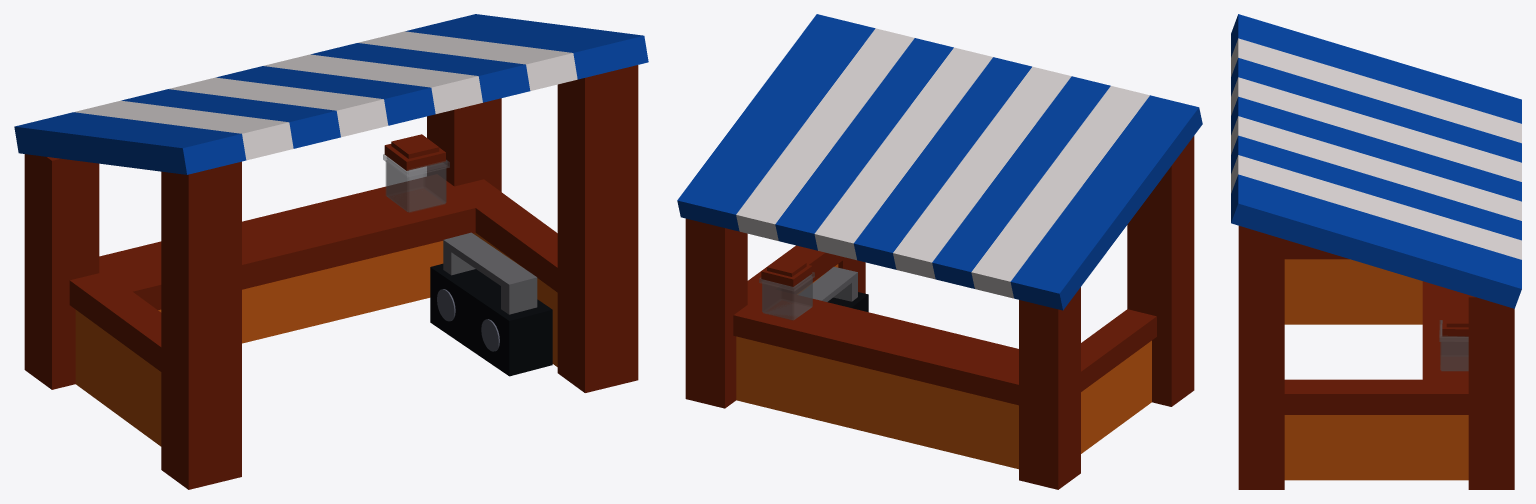
The model's file is SpeedUpgradeShop.obj.
3 views of the same model, side by side, from view 1: azimuth 30°, elevation 25°; view 2: azimuth 150°, elevation 25°; view 3: azimuth 270°, elevation 25° (orthographic). The views are drawn at different scales.
Visible parts, largest first — view 1: Part6, Part2, Part7, Part3, Part5, Part24, Central1, Part16, Part1, Part10, Part9, Part4 (+14 smaller); view 2: Part5, Part7, Part24, Part16, Part2, Part3, Part10, Part19, Part23, Part22, Part21, Part18 (+8 smaller); view 3: Part16, Part8, Part6, Part10, Part1, Part24, Part9, Part18, Part19, Part20, Part21, Part22 (+7 smaller).
Boxes of the visible parts, x1,y1,x2,y2 form: Part6: (557, 65, 638, 392); Part2: (161, 161, 241, 489); Part7: (99, 174, 481, 309); Part3: (24, 154, 99, 389); Part5: (158, 241, 443, 343); Part24: (14, 112, 246, 174); Central1: (430, 263, 552, 376); Part16: (405, 14, 648, 79); Part1: (75, 310, 161, 446); Part10: (427, 98, 501, 191); Part9: (454, 179, 557, 292); Part4: (69, 273, 161, 371); Part5: (736, 336, 1018, 469); Part7: (733, 290, 1018, 405); Part24: (1010, 95, 1202, 310); Part16: (677, 14, 875, 231); Part2: (1127, 136, 1194, 406); Part3: (1019, 287, 1080, 489); Part10: (685, 218, 747, 408); Part19: (775, 38, 953, 250); Part23: (971, 86, 1149, 298); Part22: (893, 66, 1071, 279); Part21: (932, 76, 1110, 288); Part18: (853, 57, 1031, 269); Part16: (1231, 174, 1521, 308); Part8: (1284, 415, 1468, 480); Part6: (1238, 226, 1284, 489); Part10: (1468, 295, 1514, 489); Part1: (1284, 259, 1422, 324); Part24: (1231, 14, 1521, 123); Part9: (1284, 379, 1468, 414); Part18: (1231, 96, 1521, 201); Part19: (1231, 135, 1521, 240); Part20: (1231, 155, 1521, 259); Part21: (1231, 58, 1521, 162); Part22: (1231, 77, 1521, 181).
Bounding box in the file's own units: 15.28 × 10.86 × 9.91.
